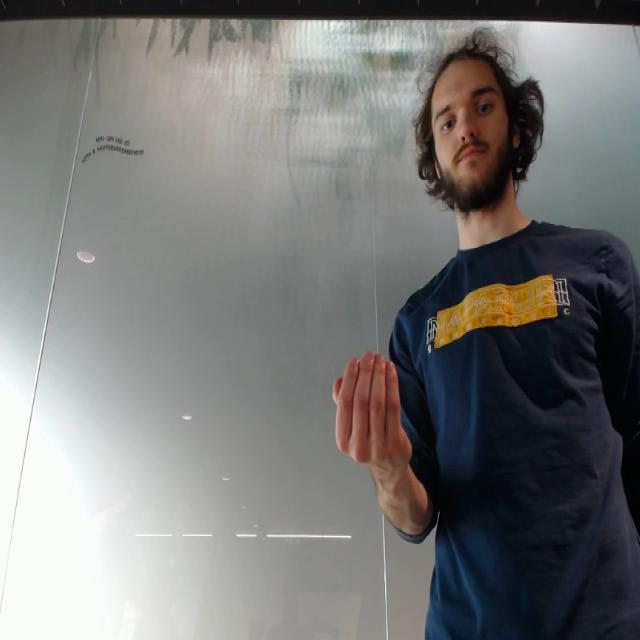forward: (327, 346, 420, 476)
